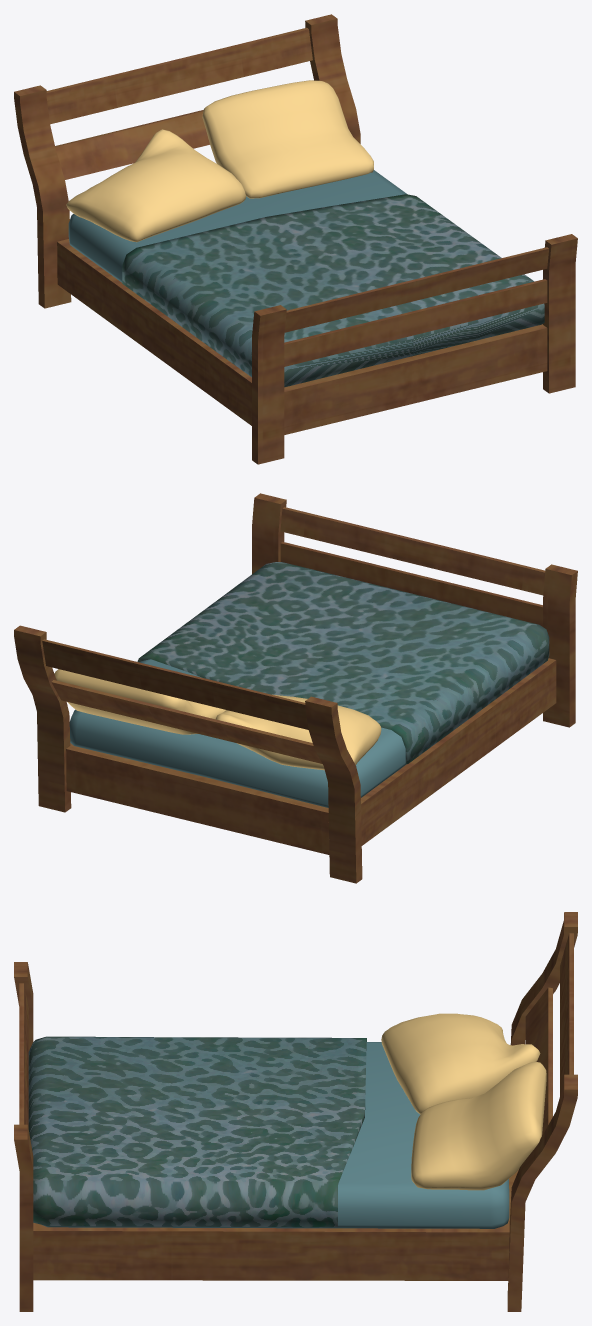
Rendered from CI_053_054_bed.glb.
3 renders of one model, top to bottom at view 1: azimuth 30°, elevation 25°; view 2: azimuth 150°, elevation 25°; view 3: azimuth 270°, elevation 25°, orthographic. The views are drawn at different scales.
Parts seen in each view (by area): view 1: bed_frame, Blanket, pillow right, pillow left, matress; view 2: bed_frame, Blanket, matress, pillow left, pillow right; view 3: Blanket, bed_frame, matress, pillow right, pillow left.
Boxes of the visible parts, x1=… form: bed_frame: x1=14, y1=14, x2=577, y2=464; Blanket: x1=122, y1=194, x2=544, y2=387; pillow right: x1=202, y1=80, x2=373, y2=198; pillow left: x1=66, y1=129, x2=245, y2=242; matress: x1=68, y1=170, x2=406, y2=282; bed_frame: x1=14, y1=493, x2=577, y2=883; Blanket: x1=137, y1=562, x2=549, y2=763; matress: x1=69, y1=659, x2=406, y2=807; pillow left: x1=216, y1=694, x2=381, y2=770; pillow right: x1=54, y1=669, x2=225, y2=734; Blanket: x1=28, y1=1036, x2=366, y2=1227; bed_frame: x1=14, y1=912, x2=577, y2=1311; matress: x1=42, y1=1042, x2=509, y2=1228; pillow right: x1=411, y1=1062, x2=546, y2=1190; pillow left: x1=381, y1=1013, x2=540, y2=1114.
Size of the model in its own units: 2.01 by 1.17 by 2.7.
Materials: 4 (2 with a texture image).
